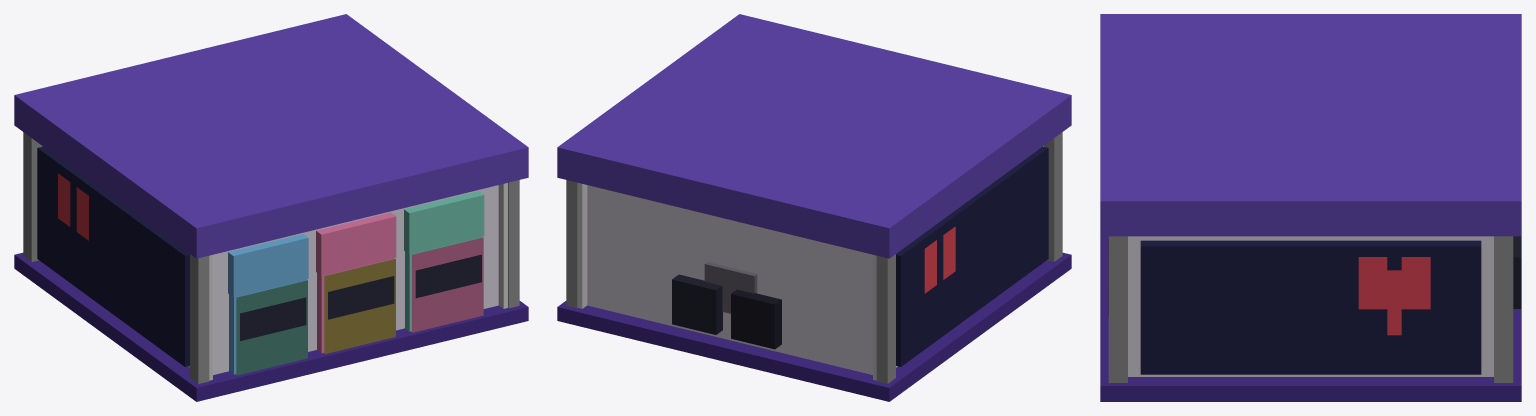
Rendered from GoldenGamepadSil.fbx.
The picture shows the model from 3 angles, left to right: view 1: azimuth 30°, elevation 25°; view 2: azimuth 150°, elevation 25°; view 3: azimuth 270°, elevation 25°; orthographic projection. The views are drawn at different scales.
Visible parts, largest first — view 1: GG_S_All; view 2: GG_S_All; view 3: GG_S_All.
Part boxes in pixels (x1=…): GG_S_All: x1=14, y1=14, x2=528, y2=401; GG_S_All: x1=557, y1=14, x2=1071, y2=401; GG_S_All: x1=1100, y1=14, x2=1521, y2=401.
Bounding box in the file's own units: 40.04 × 20 × 38.04.
